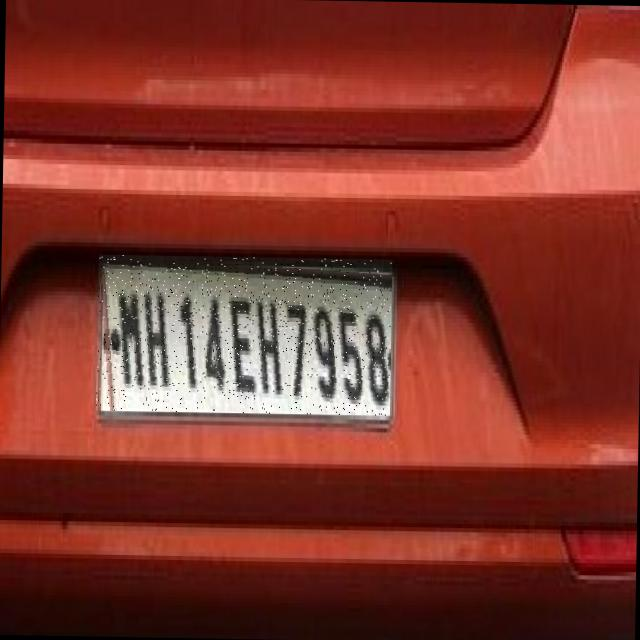Plate: (96, 256, 393, 417)
